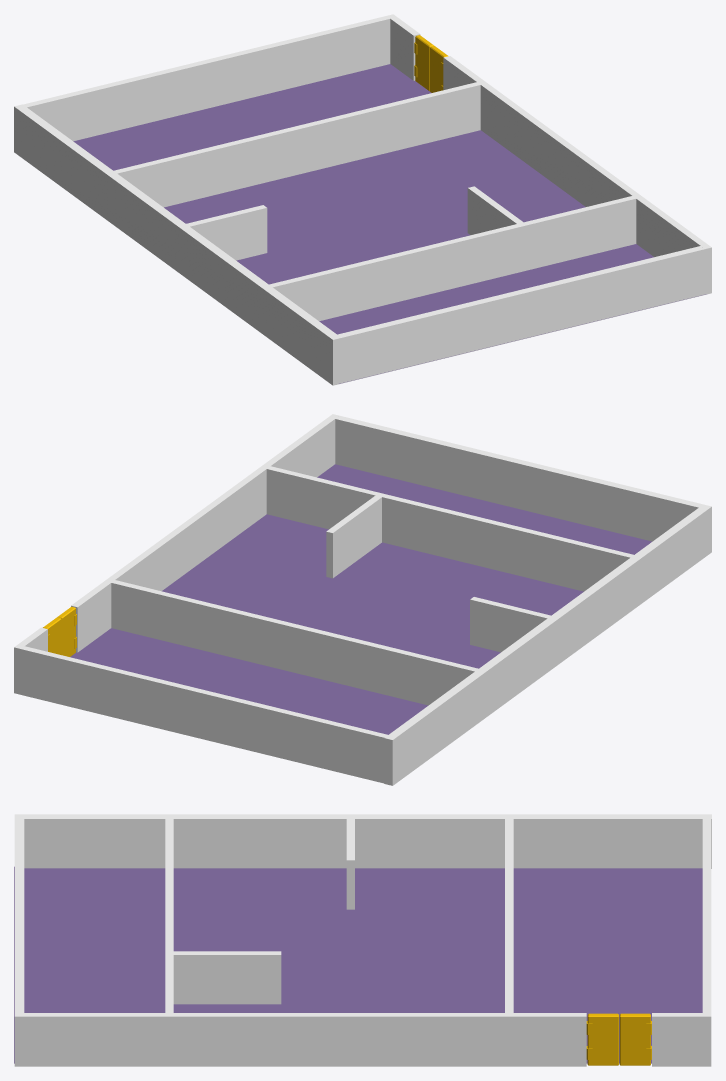
File: maps_79.fbx
The picture shows the model from 3 angles, top to bottom: view 1: azimuth 30°, elevation 25°; view 2: azimuth 150°, elevation 25°; view 3: azimuth 270°, elevation 25°; orthographic projection. The views are drawn at different scales.
Visible parts, largest first — view 1: wall_01_08_geo, wall_01_05_geo, wall_01_07_geo, wall_01_09_geo, wall_01_11_geo30, wall_01_11_geo27, wall_01_06_geo, wall_01_11_geo31, wall_01_11_geo32, wall_01_06_geo1, polySurface161, polySurface165; view 2: wall_01_08_geo, wall_01_09_geo, wall_01_07_geo, wall_01_05_geo, wall_01_11_geo27, wall_01_11_geo30, wall_01_06_geo, wall_01_11_geo32, wall_01_11_geo31, wall_01_06_geo1, polySurface165; view 3: wall_01_08_geo, wall_01_07_geo, wall_01_06_geo, wall_01_11_geo32, wall_01_06_geo1, wall_01_05_geo, wall_01_09_geo, wall_01_11_geo27, wall_01_11_geo30, polySurface165, polySurface161, wall_01_11_geo31.
Part boxes in pixels (<box>): wall_01_08_geo: <box>73,64,706,383</box>; wall_01_05_geo: <box>337,246,705,383</box>; wall_01_07_geo: <box>14,104,341,385</box>; wall_01_09_geo: <box>23,16,390,141</box>; wall_01_11_geo30: <box>269,196,636,321</box>; wall_01_11_geo27: <box>113,82,480,207</box>; wall_01_06_geo: <box>443,56,711,294</box>; wall_01_11_geo31: <box>186,205,267,260</box>; wall_01_11_geo32: <box>467,186,523,234</box>; wall_01_06_geo1: <box>387,14,420,80</box>; polySurface161: <box>414,35,433,91</box>; polySurface165: <box>430,45,448,92</box>; wall_01_08_geo: <box>70,464,651,734</box>; wall_01_09_geo: <box>20,646,387,783</box>; wall_01_07_geo: <box>384,504,711,785</box>; wall_01_05_geo: <box>335,415,703,541</box>; wall_01_11_geo27: <box>111,580,478,705</box>; wall_01_11_geo30: <box>266,466,633,591</box>; wall_01_06_geo: <box>71,414,338,652</box>; wall_01_11_geo32: <box>326,495,381,578</box>; wall_01_11_geo31: <box>470,597,550,652</box>; wall_01_06_geo1: <box>14,627,47,694</box>; polySurface165: <box>57,606,76,656</box>; wall_01_08_geo: <box>14,866,702,1063</box>; wall_01_07_geo: <box>14,814,711,868</box>; wall_01_06_geo: <box>14,1013,586,1066</box>; wall_01_11_geo32: <box>173,951,281,1004</box>; wall_01_06_geo1: <box>652,1013,711,1066</box>; wall_01_05_geo: <box>14,818,24,1012</box>; wall_01_09_geo: <box>702,819,711,1012</box>; wall_01_11_geo27: <box>505,819,513,1012</box>; wall_01_11_geo30: <box>165,819,173,1012</box>; polySurface165: <box>586,1013,618,1065</box>; polySurface161: <box>619,1013,651,1065</box>; wall_01_11_geo31: <box>346,819,354,909</box>.
Size of the model in its own units: 76.85 by 8.89 by 112.
Materials: 2 (2 with a texture image).
